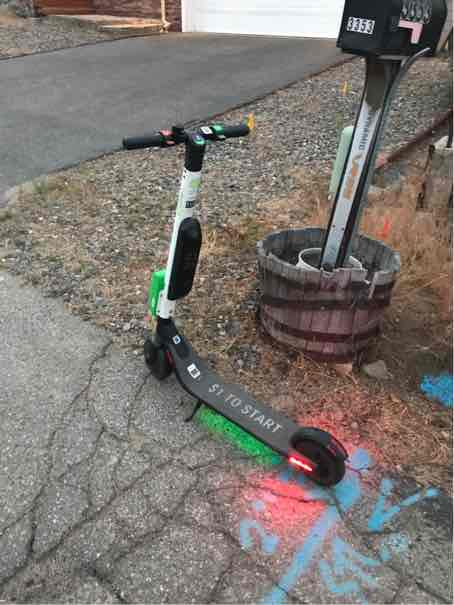scooter: (120, 113, 350, 490)
